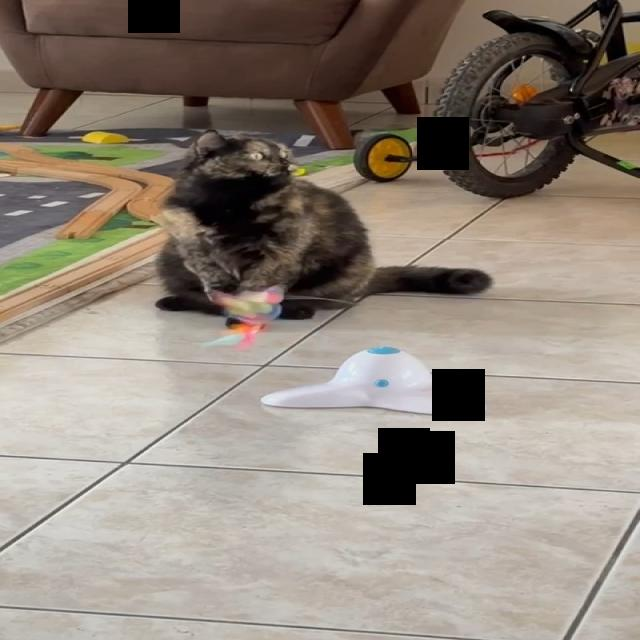authorized: (152, 128, 492, 321)
